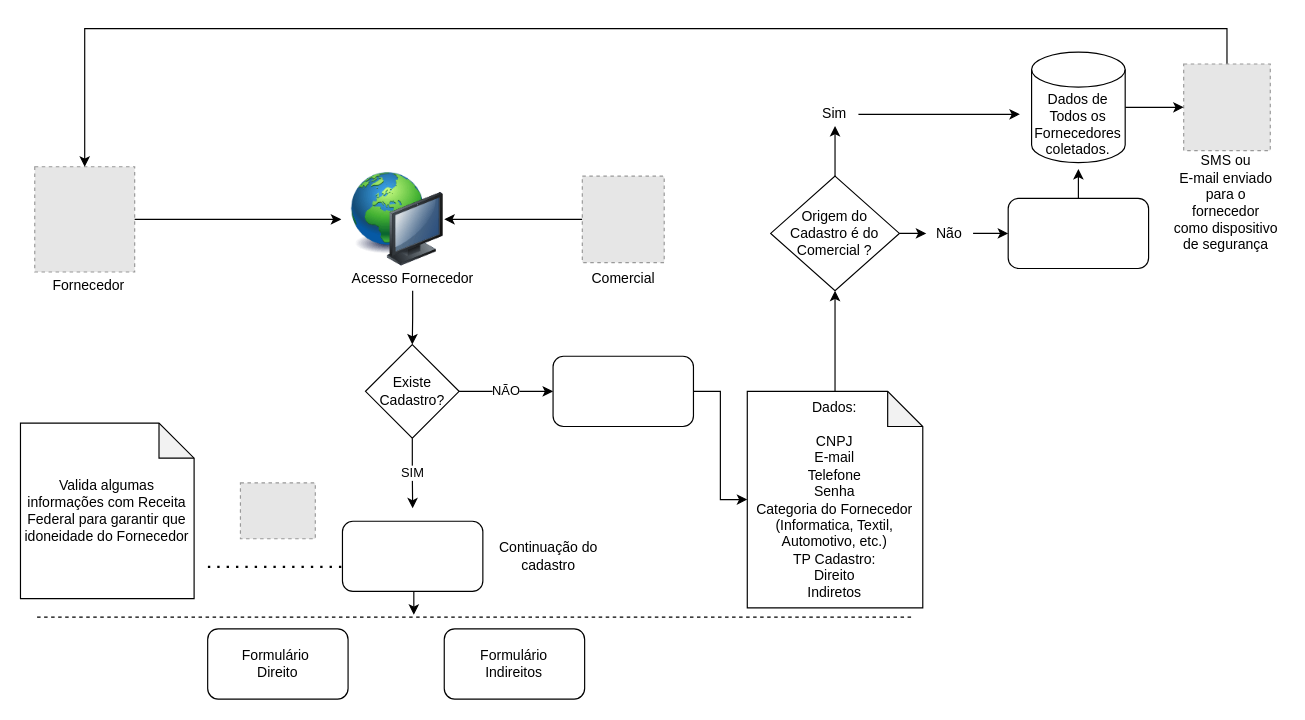
The diagram is 1305 pixels wide and 720 high, and some of its shapes have lost their labels. Grey dashed boxes stand in for pictures. Here are the shapes that lost their labels. From the top down, the centre of each, then its label:
the point at 1078,233: Aguarda Aprovação do Cadastro Prévio na Tela de Acompanhamento
the point at 622,390: Realizar Cadastro Prévio
the point at 412,555: Cadastro
